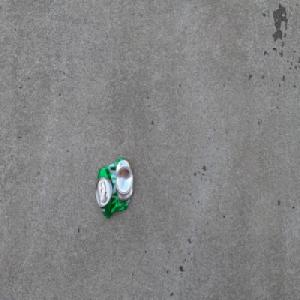SodaCan: (95, 156, 134, 218)
